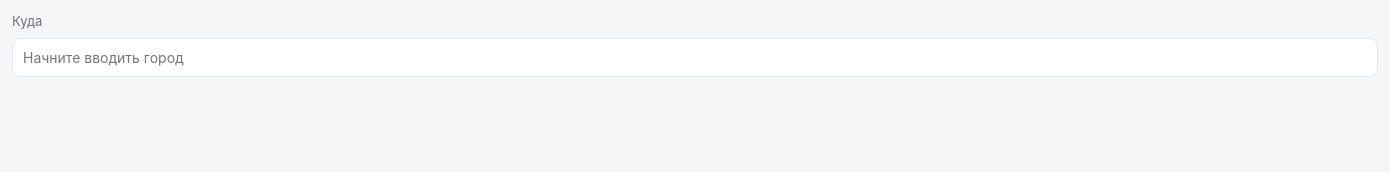
CityPicker › говорит, когда подсказки собраны без ДаData
In the field with placeholder "Начните вводить город": (695, 57) [12, 38, 1378, 76], type "Моск"
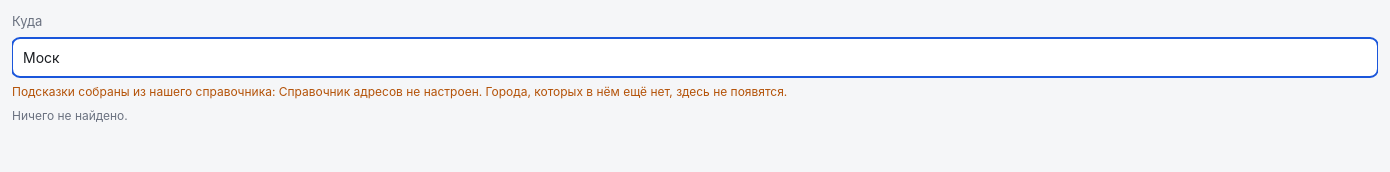
Expected: the text "Справочник адресов не настроен" is shown, [279, 84, 479, 98]
